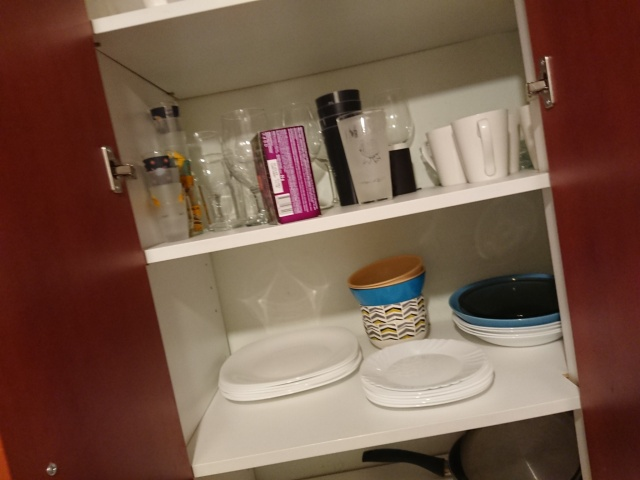Franck Black Currant Tea 60g: (248, 123, 324, 226)
